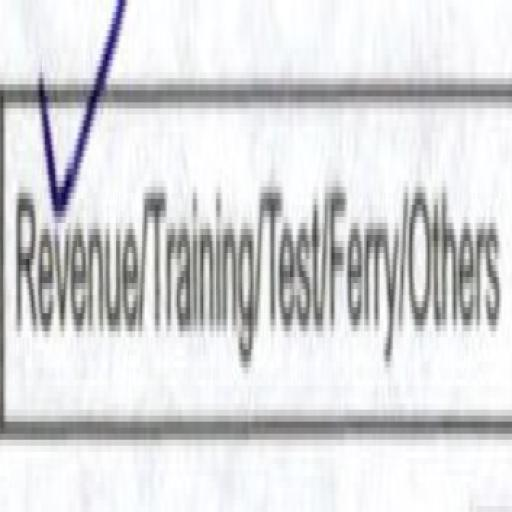check: (0, 0, 142, 421)
